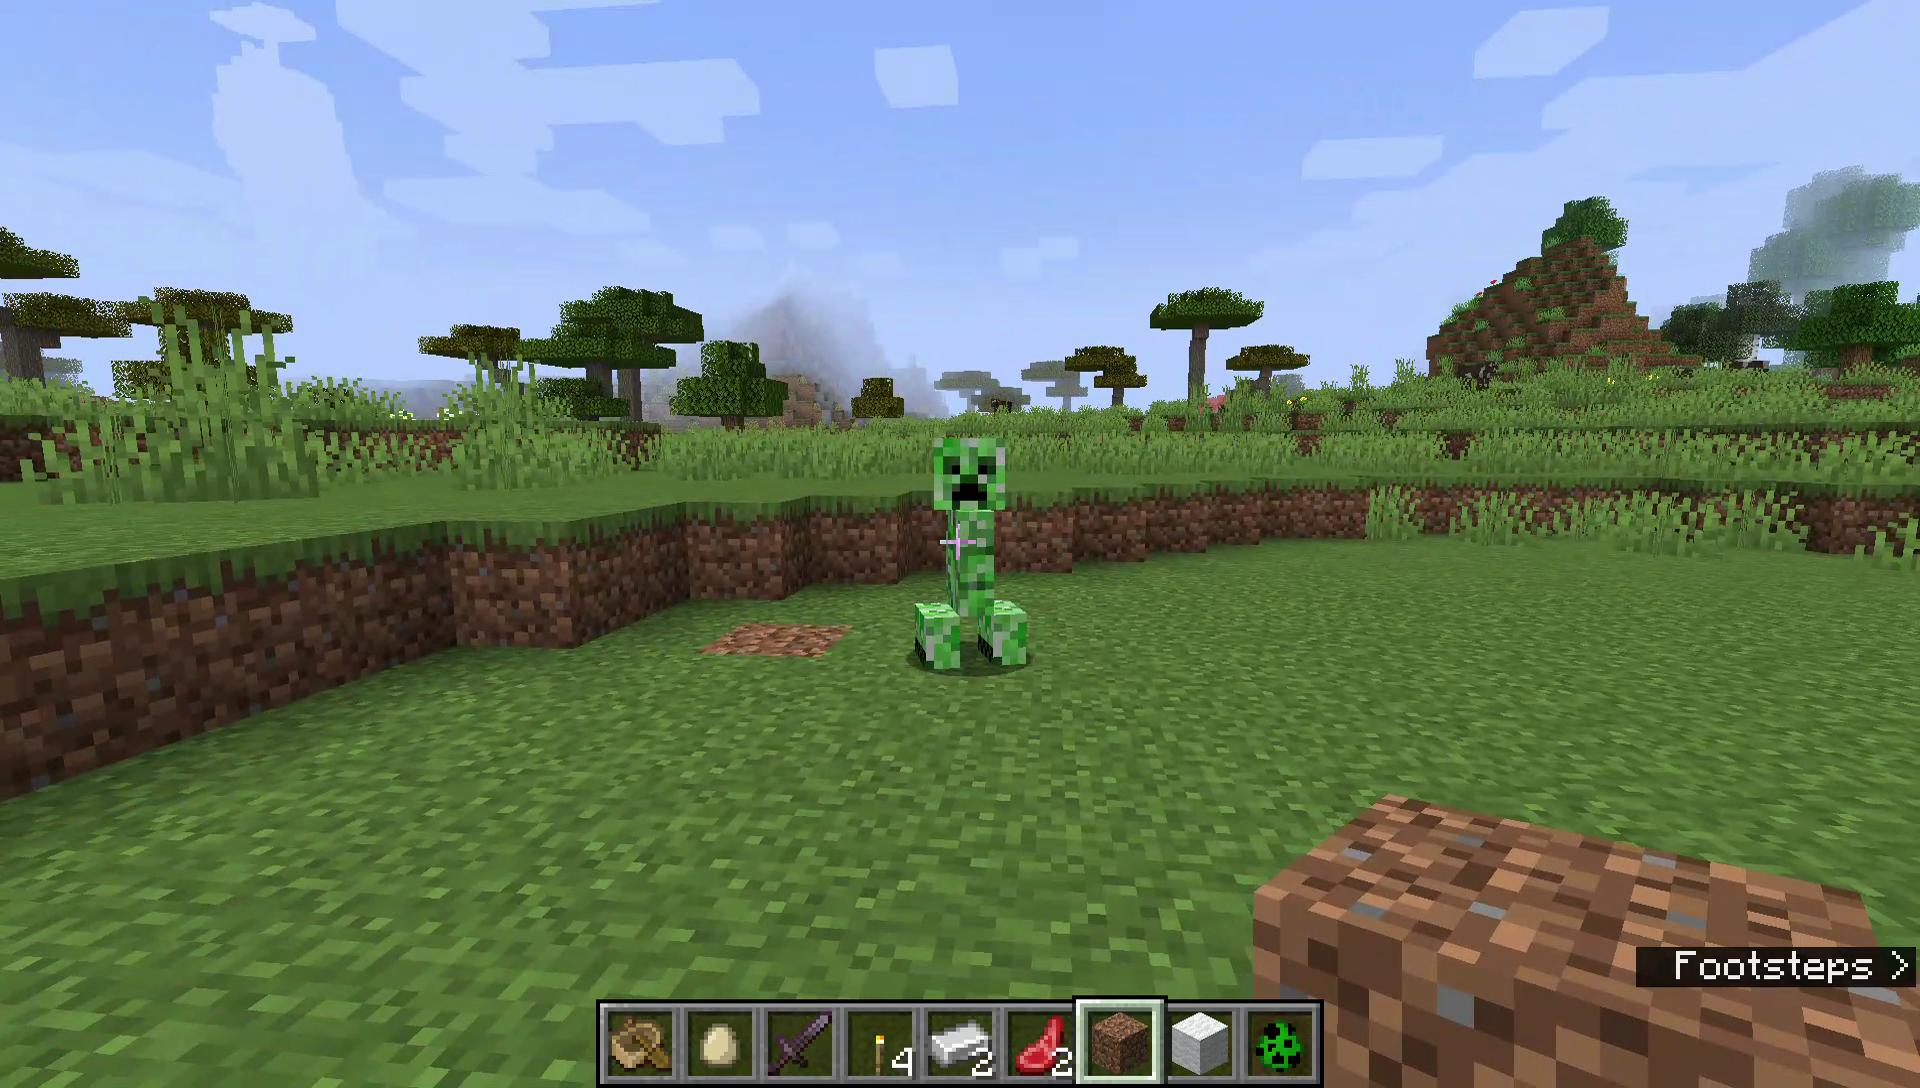cow: (1718, 353, 1775, 384), (1456, 360, 1502, 392), (989, 396, 1014, 419)
creeper: (913, 430, 1035, 673)
pig: (1197, 393, 1229, 414)
